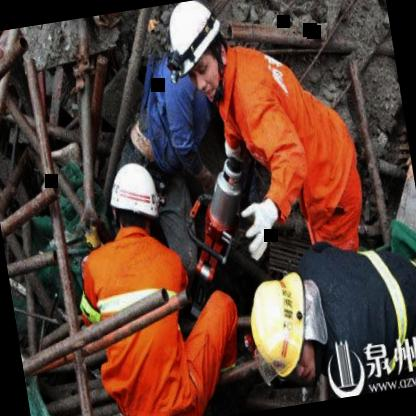helmet: (246, 266, 325, 390), (159, 0, 242, 108), (102, 148, 168, 250)
